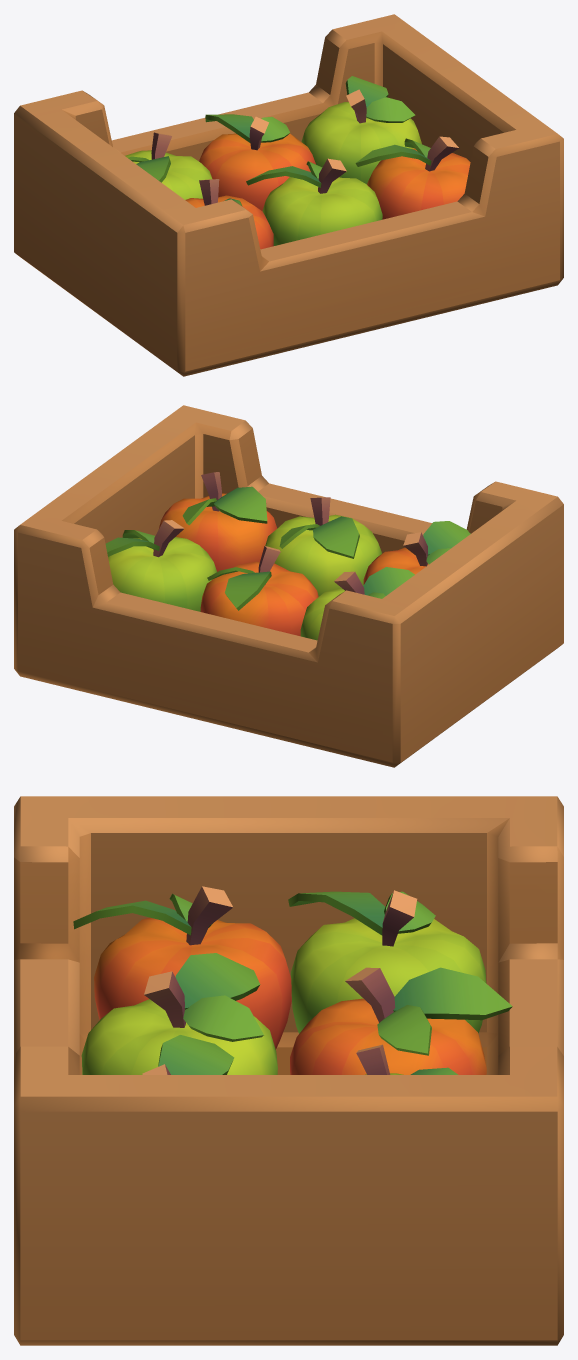
File: Fruit_Crate_Apples_03.fbx
3 renders of one model, top to bottom at view 1: azimuth 30°, elevation 25°; view 2: azimuth 150°, elevation 25°; view 3: azimuth 270°, elevation 25°, orthographic. The views are drawn at different scales.
Visible parts, largest first — view 1: Fruit_Crate_Apples_03; view 2: Fruit_Crate_Apples_03; view 3: Fruit_Crate_Apples_03.
Part boxes in pixels (x1,y1,x2,y2): Fruit_Crate_Apples_03: [14, 14, 563, 376]; Fruit_Crate_Apples_03: [14, 405, 563, 767]; Fruit_Crate_Apples_03: [14, 796, 563, 1345].
Size of the model in its own units: 1.6 by 0.5992 by 1.2.
